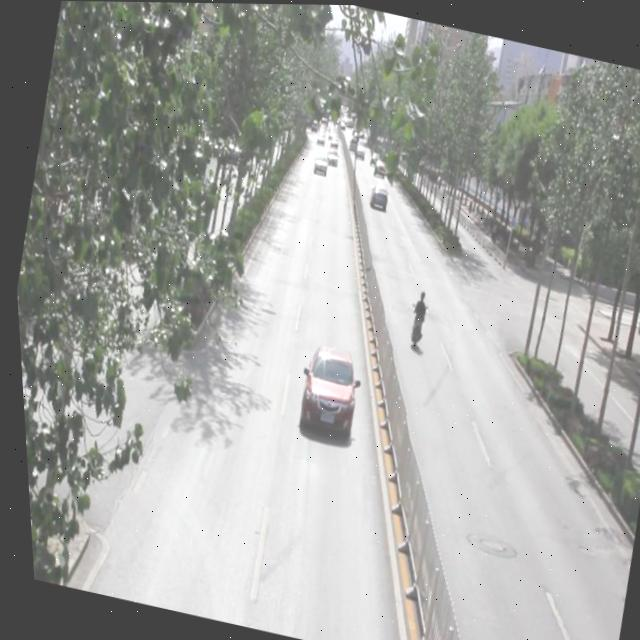car: (285, 338, 362, 437), (365, 177, 389, 204), (309, 150, 328, 173), (322, 144, 339, 165)
